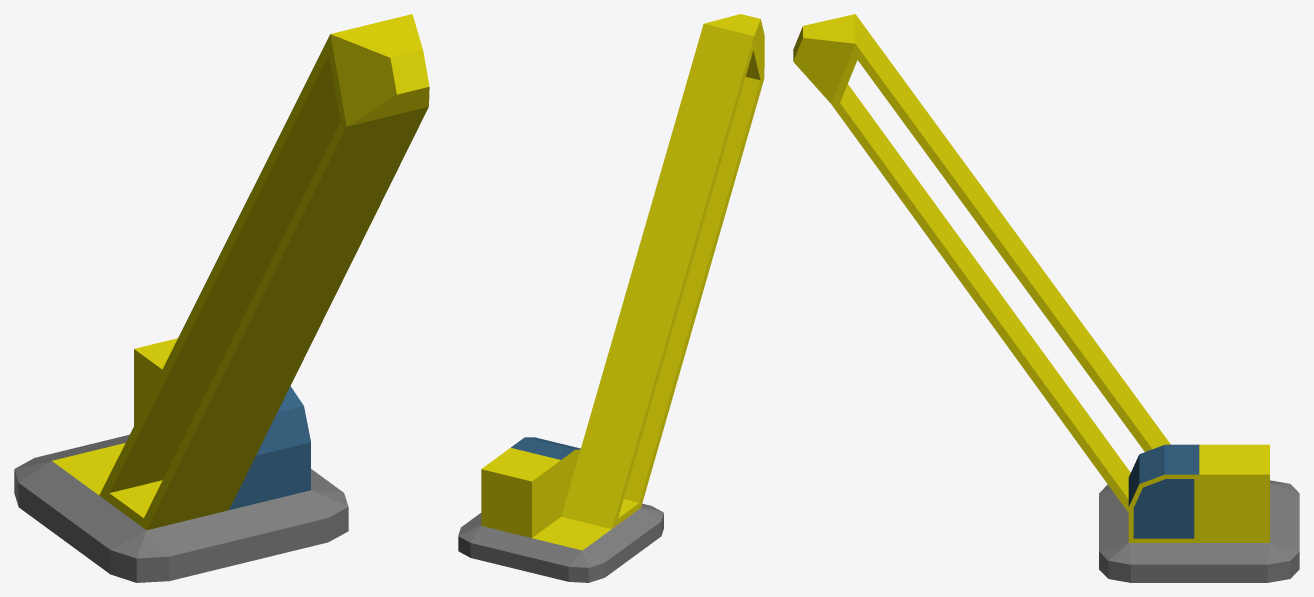
The model's file is Crane.fbx.
3 renders of one model, left to right at view 1: azimuth 30°, elevation 25°; view 2: azimuth 150°, elevation 25°; view 3: azimuth 270°, elevation 25°, orthographic. The views are drawn at different scales.
Visible parts, largest first — view 1: Cube.001; view 2: Cube.001; view 3: Cube.001.
Part boxes in pixels (x1=…): Cube.001: x1=14, y1=14, x2=429, y2=582; Cube.001: x1=458, y1=14, x2=764, y2=582; Cube.001: x1=793, y1=14, x2=1299, y2=582.
Bounding box in the file's own units: 2.84 × 7.76 × 7.17.
